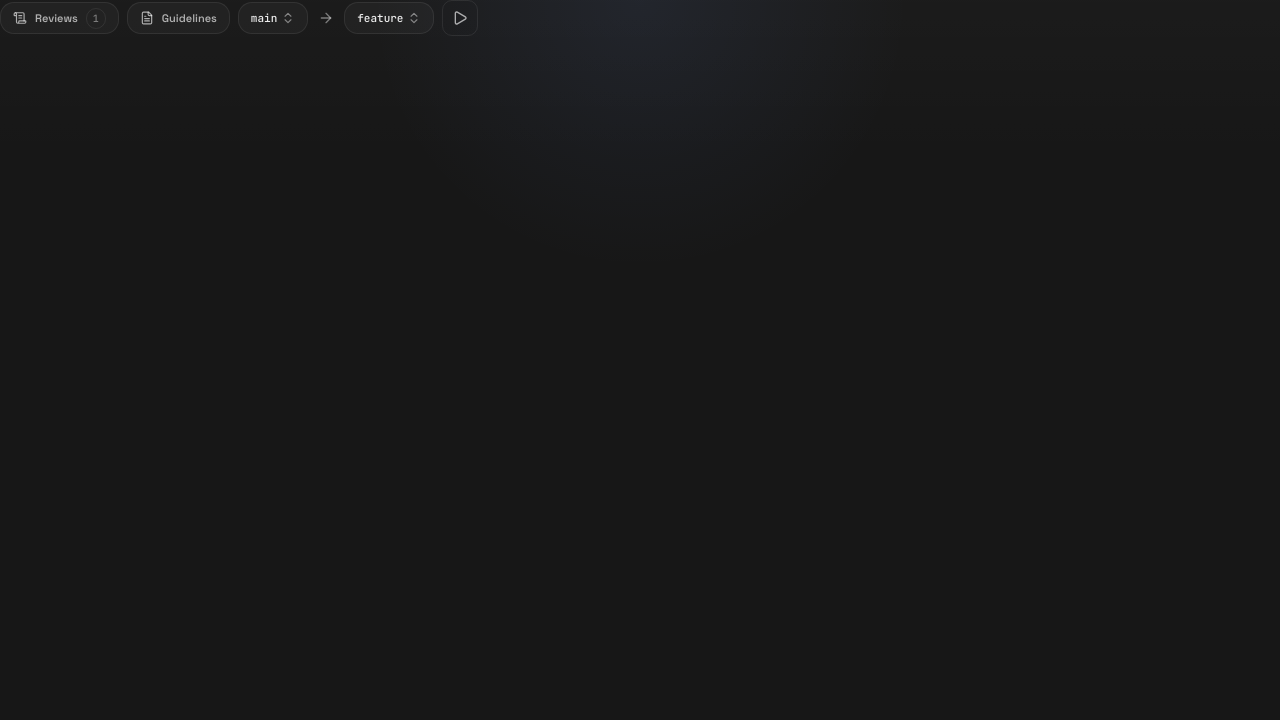
Scenario: ReviewTitleBarTrailing › submits a new guideline when pressing enter in the additional guideline field
The image size is (1280, 720).
Click the button "Guidelines" at [178, 18], box [127,2,230,34]
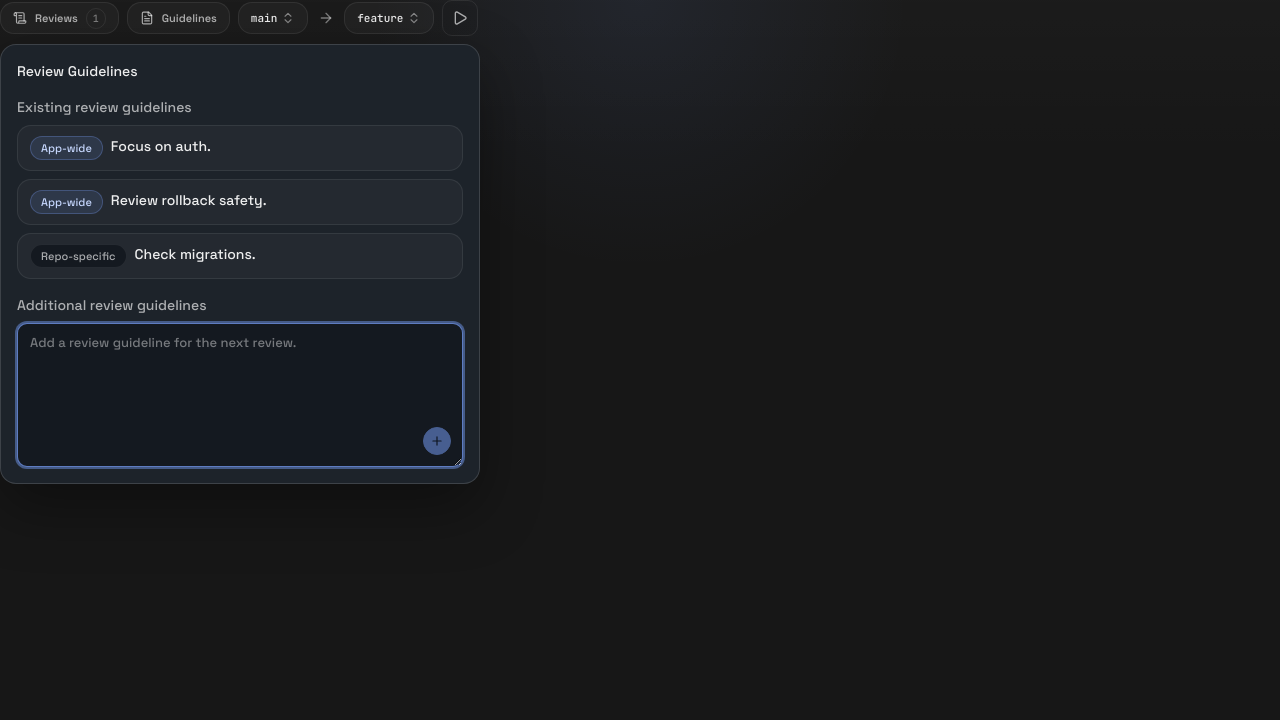
Type "Check rollback safety." into the text box named "new review guideline" at [240, 395], box [17,323,463,467]
Then press Enter
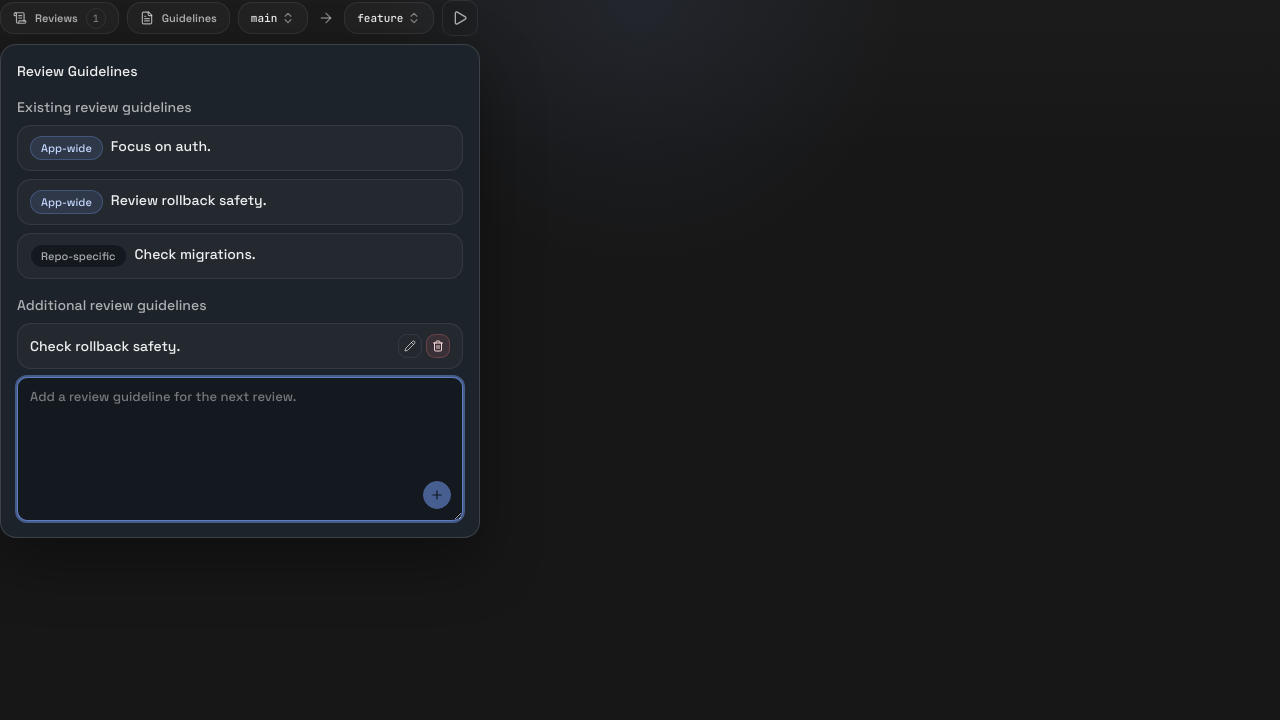
Check: the text box named "new review guideline" is empty, box [17,377,463,521]
Check: the text "Check rollback safety." is shown, box [30,337,180,355]
